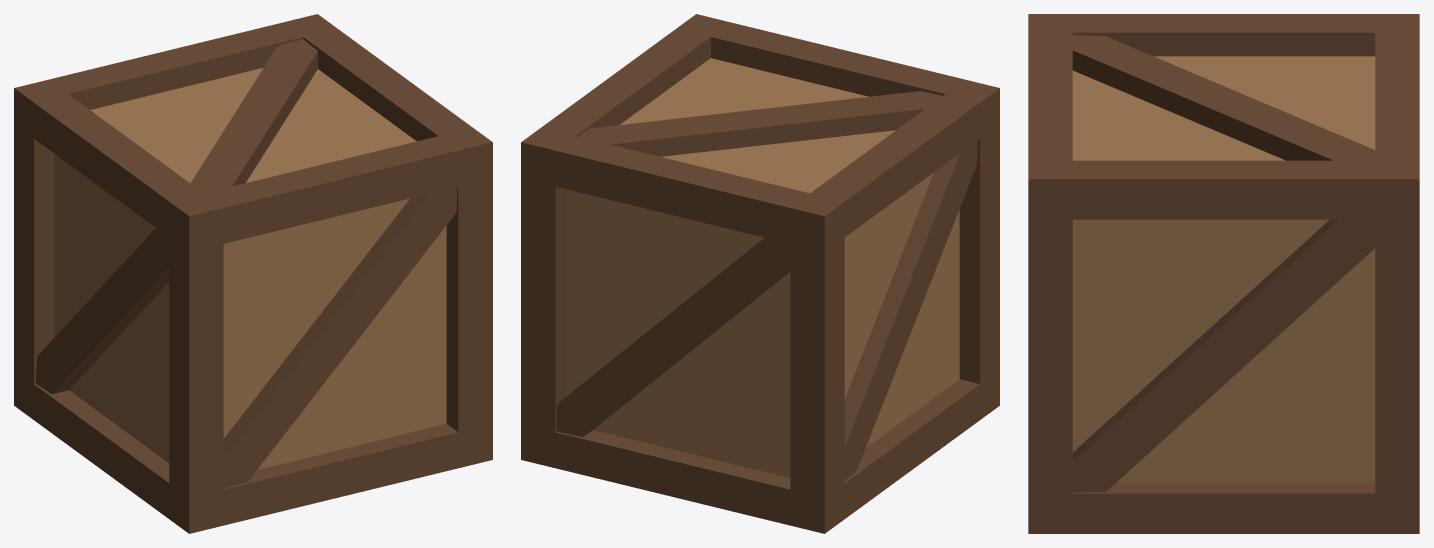
Rendered from Box_1_Brown.fbx.
3 views of the same model, side by side, from view 1: azimuth 30°, elevation 25°; view 2: azimuth 150°, elevation 25°; view 3: azimuth 270°, elevation 25° (orthographic). The views are drawn at different scales.
Visible parts, largest first — view 1: Box_1_Brown_Part_1, Box_1_Brown_Part_2; view 2: Box_1_Brown_Part_1, Box_1_Brown_Part_2; view 3: Box_1_Brown_Part_1, Box_1_Brown_Part_2.
Part boxes in pixels (x1,y1,x2,y2): Box_1_Brown_Part_1: [14, 14, 492, 533]; Box_1_Brown_Part_2: [54, 68, 446, 469]; Box_1_Brown_Part_1: [521, 14, 999, 533]; Box_1_Brown_Part_2: [567, 58, 959, 477]; Box_1_Brown_Part_1: [1028, 14, 1419, 533]; Box_1_Brown_Part_2: [1072, 56, 1375, 482].
Size of the model in its own units: 150 by 150 by 150.
